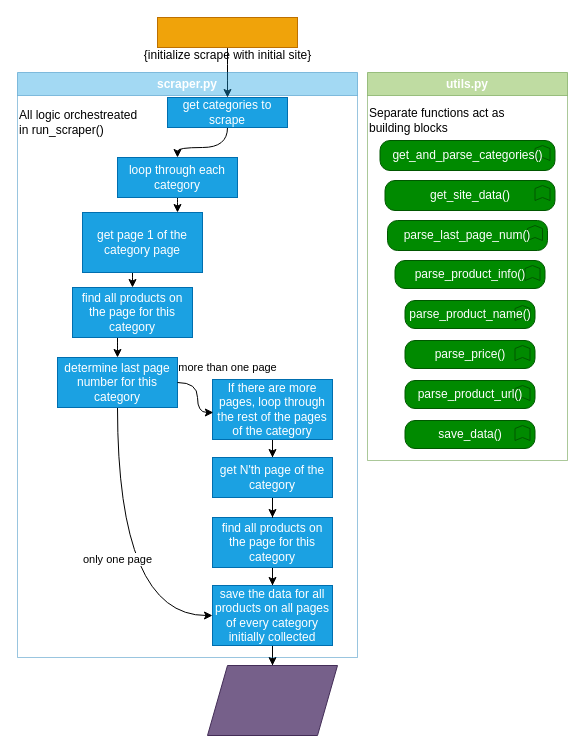
Some shapes in this 585 by 753 pixel diagram are drawn without their labels. Each missing label, with the centre of its shape:
Scraped data: the point at 272,700
specify initial site url: the point at 227,32
